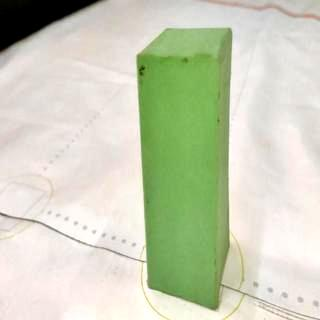greenbox: (136, 26, 238, 308)
